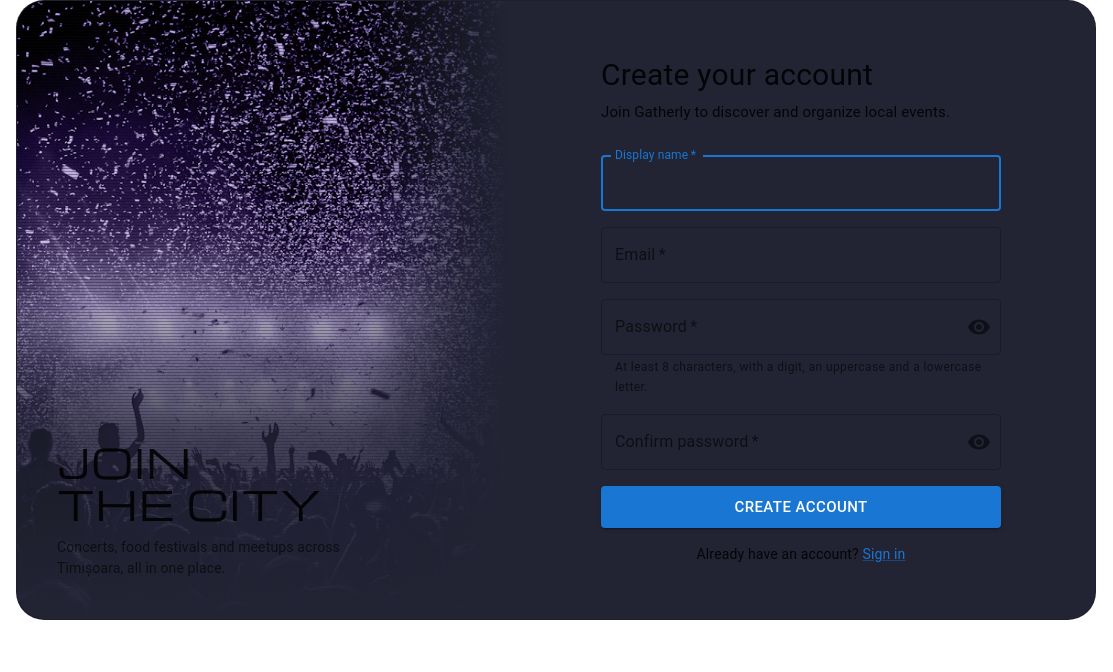
RegisterPage › validates fields before calling the API
Type "not-an-email" into the field labelled "Email *" at coordinates (801, 255), box top-left (601, 227), bottom-right (1001, 283)
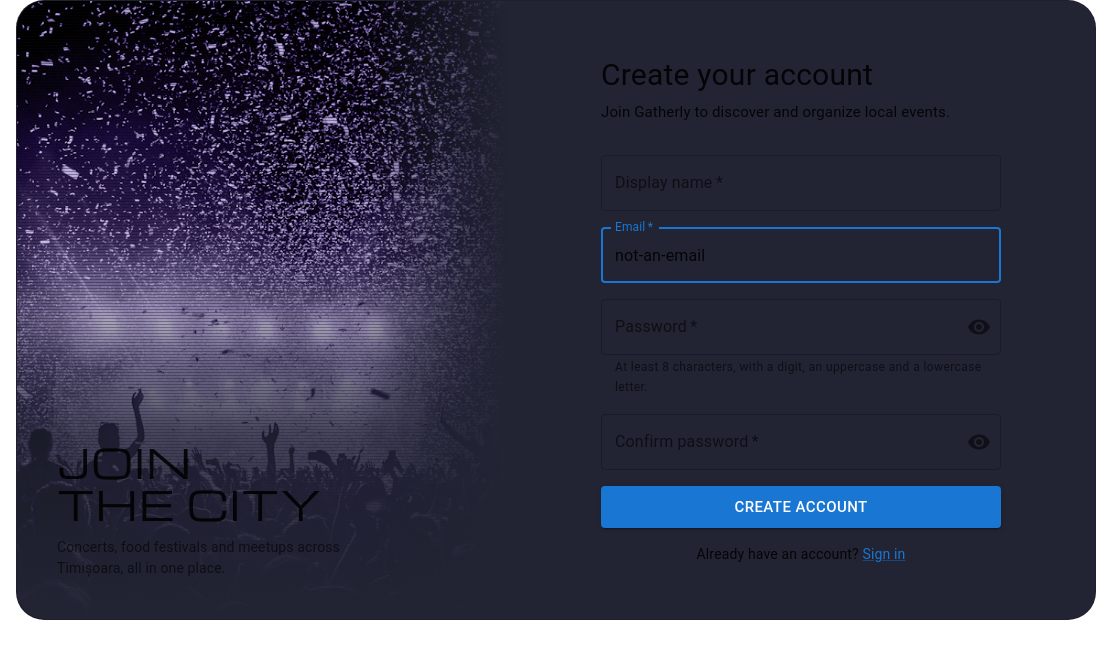
Type "short" into the password field labelled "Password *" at coordinates (776, 327), box top-left (601, 299), bottom-right (951, 355)
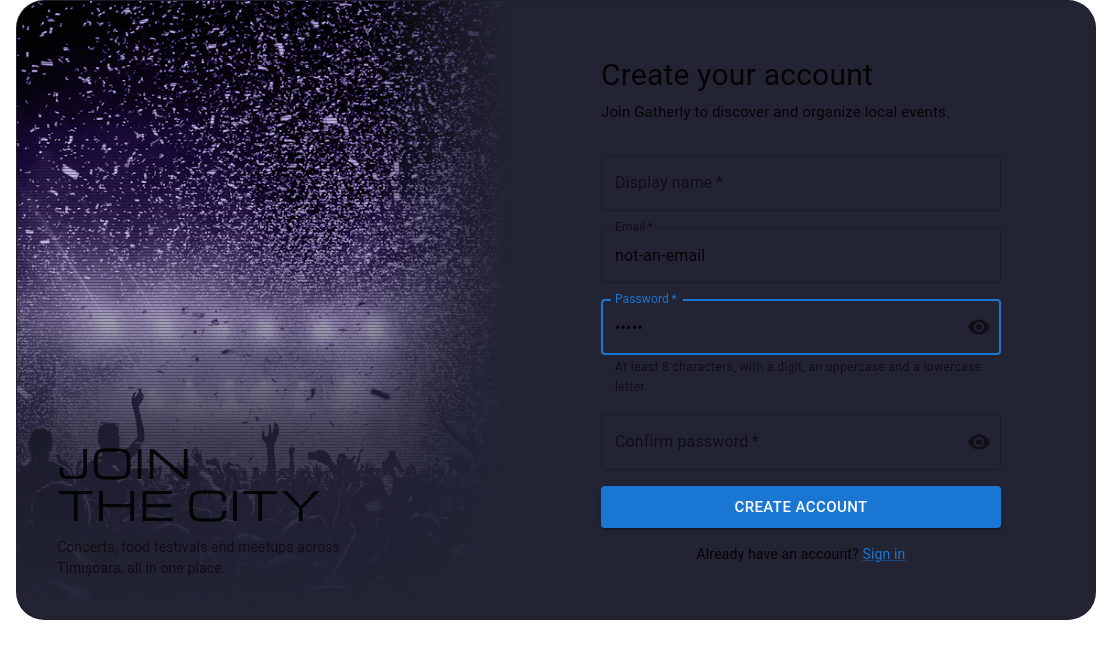
Click the button "Create account" at coordinates (801, 507), box top-left (601, 486), bottom-right (1001, 528)
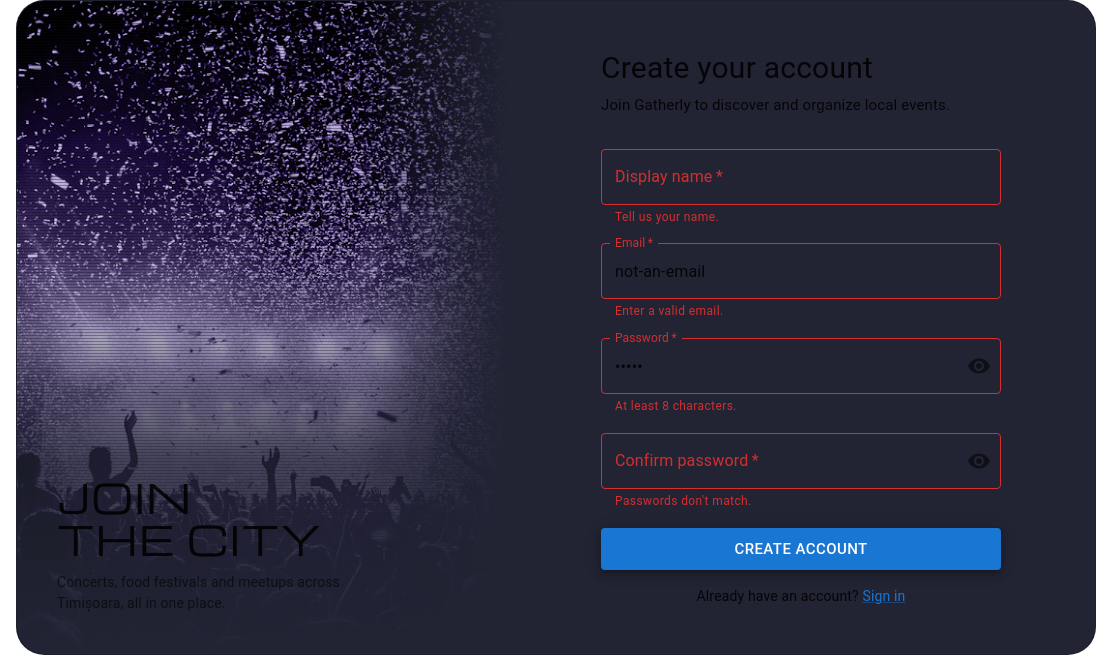
Now the text "Tell us your name." is shown, box top-left (615, 210), bottom-right (719, 224)
Now the text "Enter a valid email." is shown, box top-left (615, 304), bottom-right (724, 318)
Now the text "Passwords don't match." is shown, box top-left (615, 494), bottom-right (752, 508)
